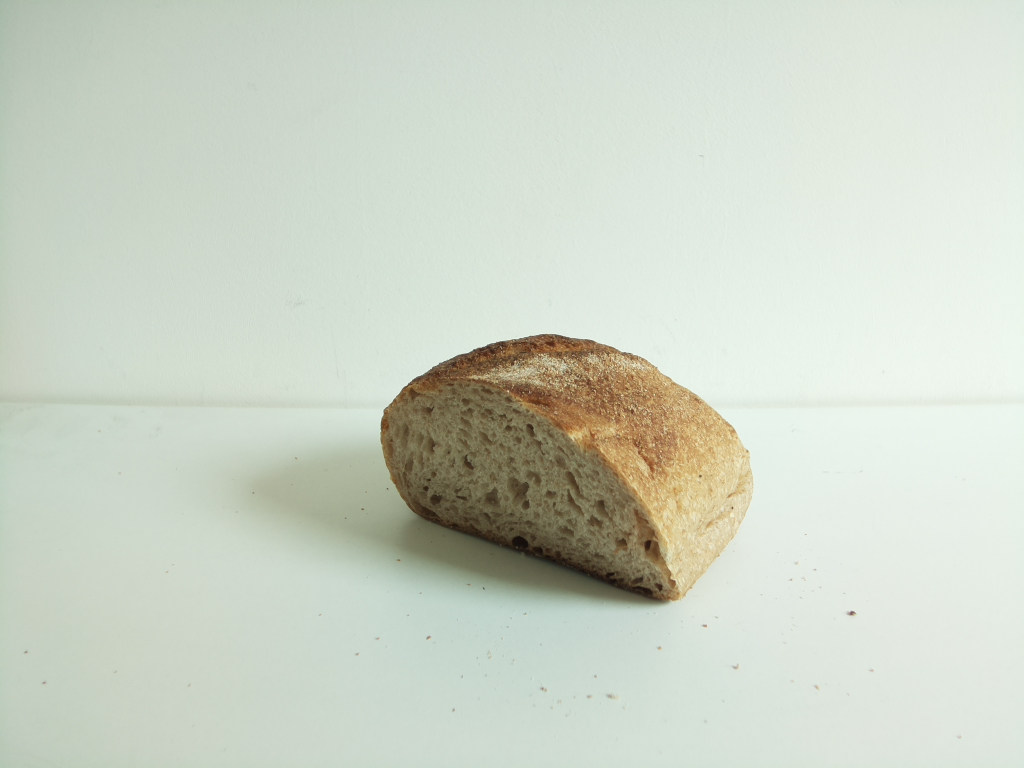bread: (380, 333, 754, 603)
